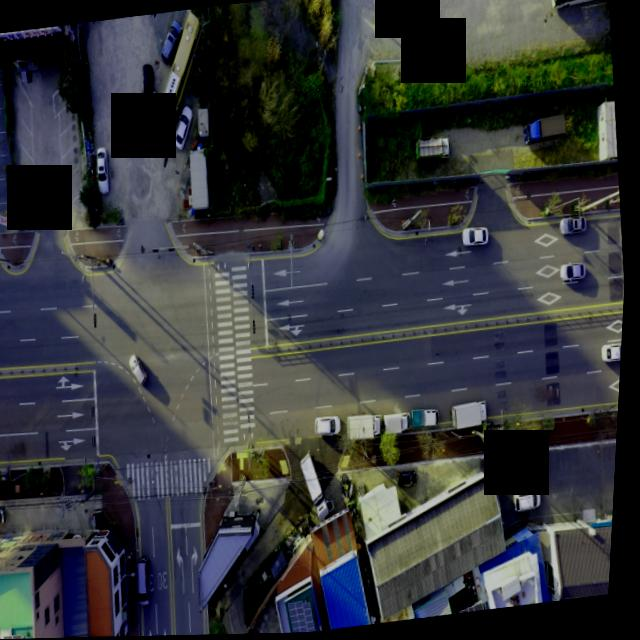car: (169, 102, 197, 152), (157, 18, 185, 63), (138, 59, 159, 113), (138, 556, 159, 607), (515, 488, 546, 515), (94, 147, 110, 193), (315, 414, 344, 438), (130, 352, 150, 385), (560, 217, 589, 239), (561, 262, 588, 284), (463, 227, 490, 248), (604, 341, 626, 363), (401, 470, 422, 489)
large_bus: (146, 7, 210, 131), (546, 0, 609, 11)
medium_truck: (300, 453, 336, 529), (521, 110, 569, 148), (345, 409, 386, 444), (451, 401, 491, 433)
small_truck: (413, 133, 452, 161), (382, 408, 414, 439), (413, 406, 444, 430)
